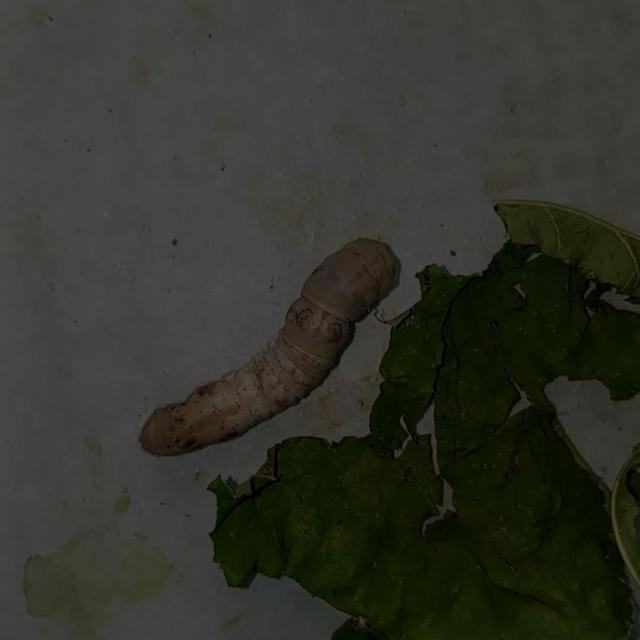Grasserie: (113, 224, 457, 476)
